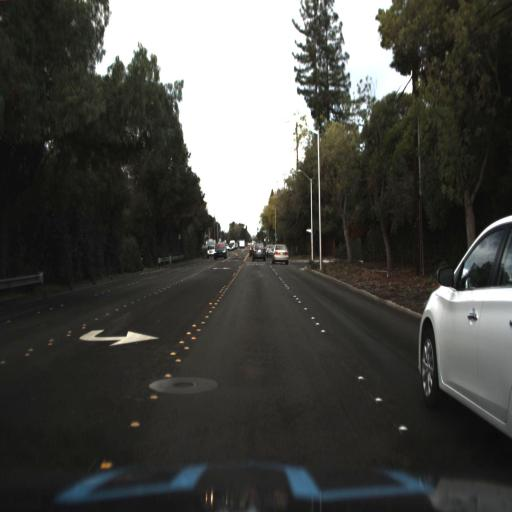car: (408, 207, 511, 438), (270, 239, 290, 266), (249, 240, 267, 264), (211, 241, 228, 262), (204, 239, 216, 259)
